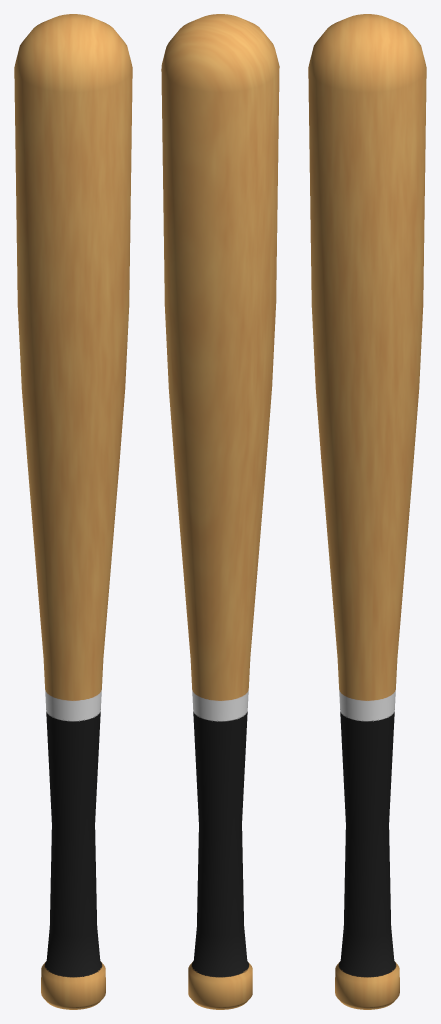
Rendered from batclean_low.fbx.
3 renders of one model, left to right at view 1: azimuth 90°, elevation 25°; view 2: azimuth 150°, elevation 25°; view 3: azimuth 270°, elevation 25°, orthographic.
Parts seen in each view (by area): view 1: batclean_low; view 2: batclean_low; view 3: batclean_low.
Boxes of the visible parts, box(x1,y1,x2,y2) form: batclean_low: box(14, 14, 132, 1009); batclean_low: box(161, 14, 279, 1009); batclean_low: box(308, 14, 426, 1009).
Size of the model in its own units: 13.21 by 121 by 13.21.
1 material, 1 textured.
